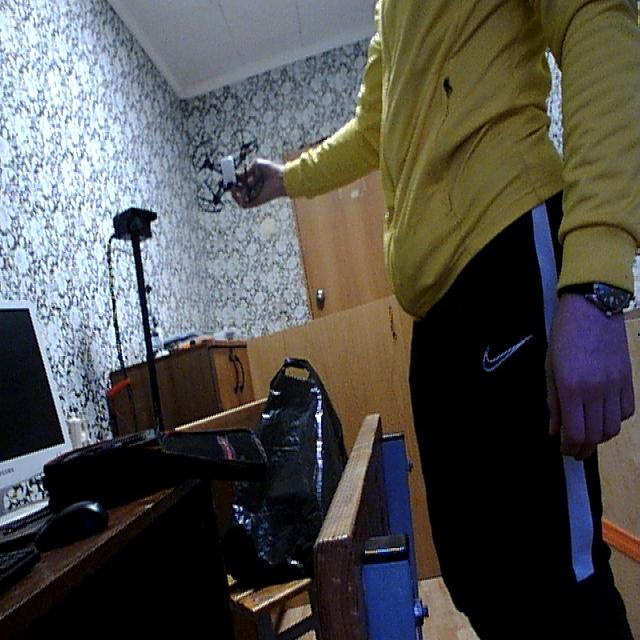drone: (186, 119, 272, 224)
